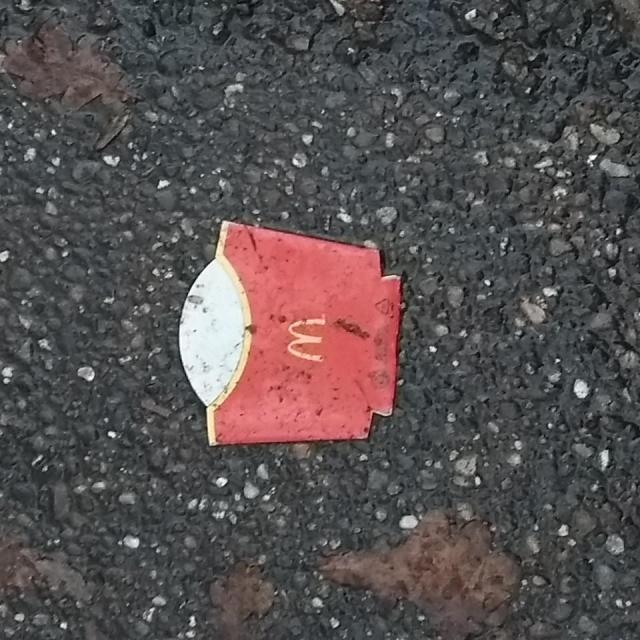Paper: (175, 218, 403, 450)
